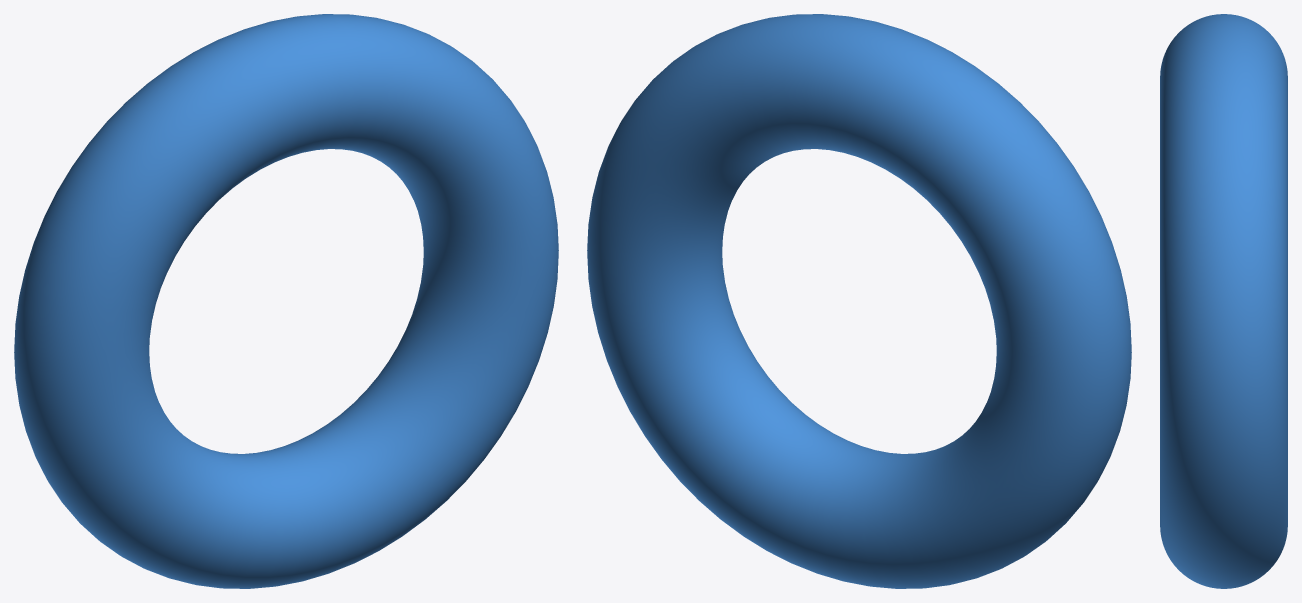
Rendered from expected.gltf.
The picture shows the model from 3 angles, left to right: view 1: azimuth 30°, elevation 25°; view 2: azimuth 150°, elevation 25°; view 3: azimuth 270°, elevation 25°; orthographic projection. The views are drawn at different scales.
Bounding box in the file's own units: 36 × 36 × 8.
